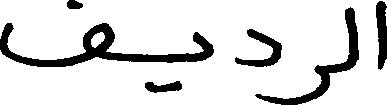X: (0, 0, 113, 71), (235, 24, 280, 104), (282, 60, 329, 104), (345, 2, 357, 75), (378, 0, 386, 104), (195, 27, 212, 66)
